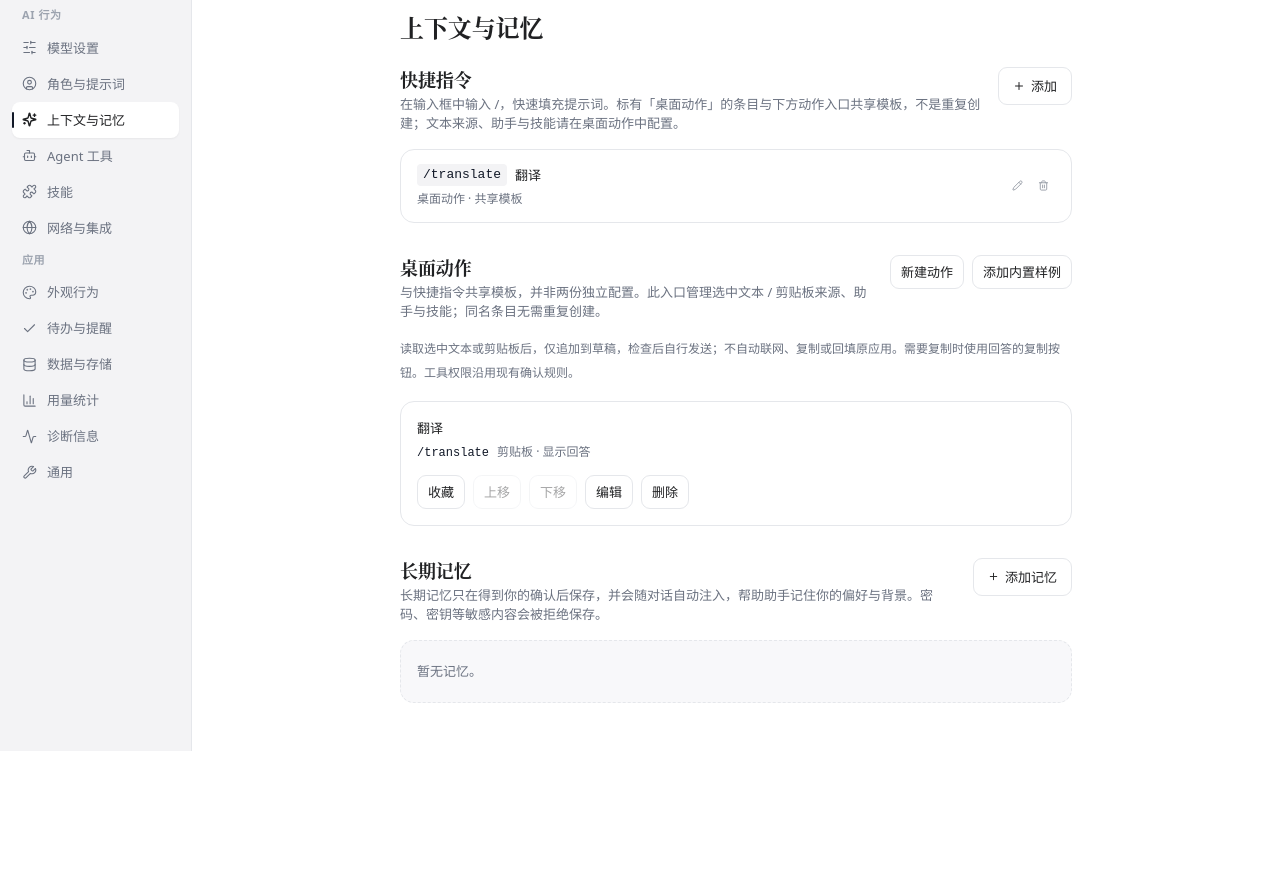
Test: uses the same section hierarchy for commands, desktop actions and memories on a settings-only surface
Expected: the text "暂无记忆。" is shown, [400,640,1072,703]
Expected: the element with class "cf-settings-page" is shown, [400,11,1072,703]
Click the button "添加记忆" at (1022, 577), box [973,558,1072,596]
(page scrolled)
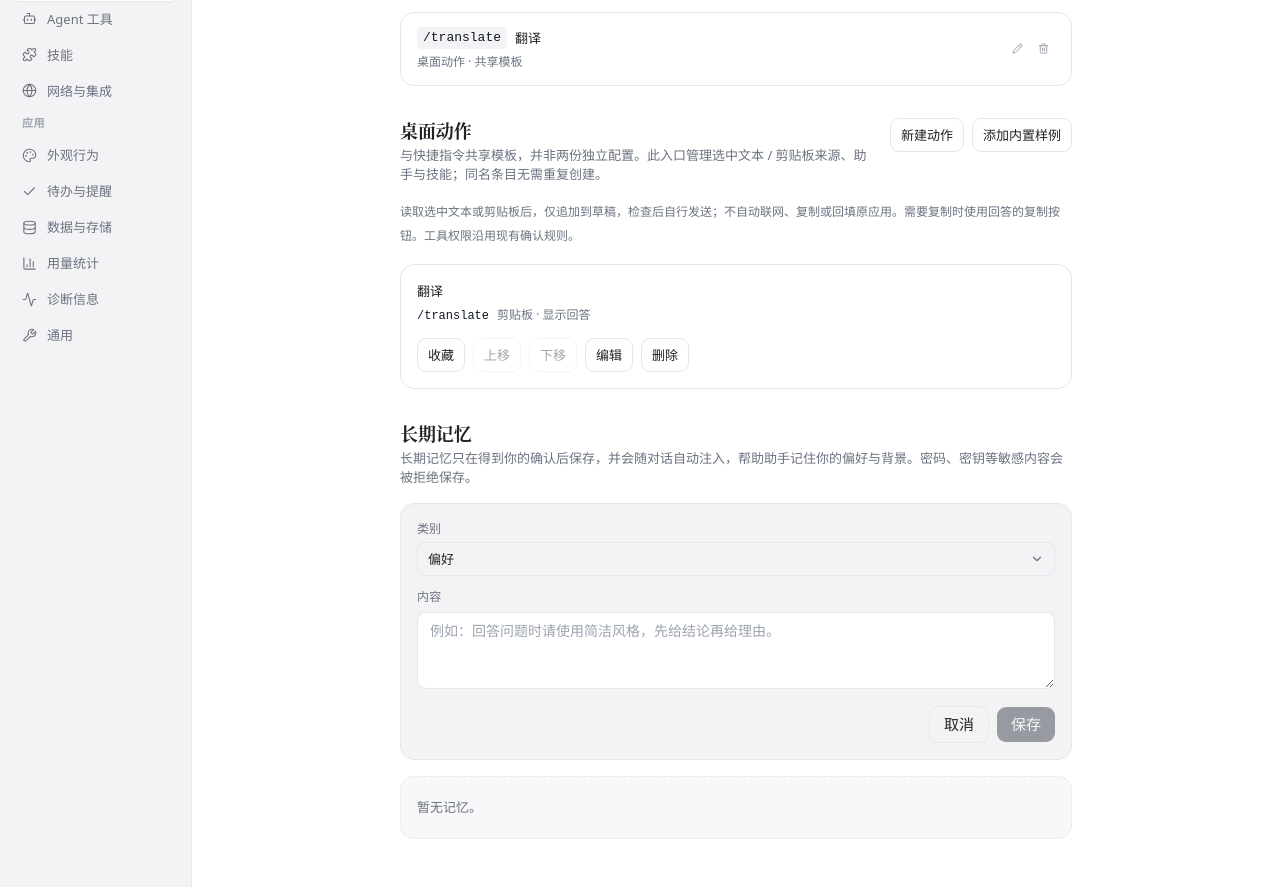
Expected: the element "内容" is shown, [400,503,1072,760]
